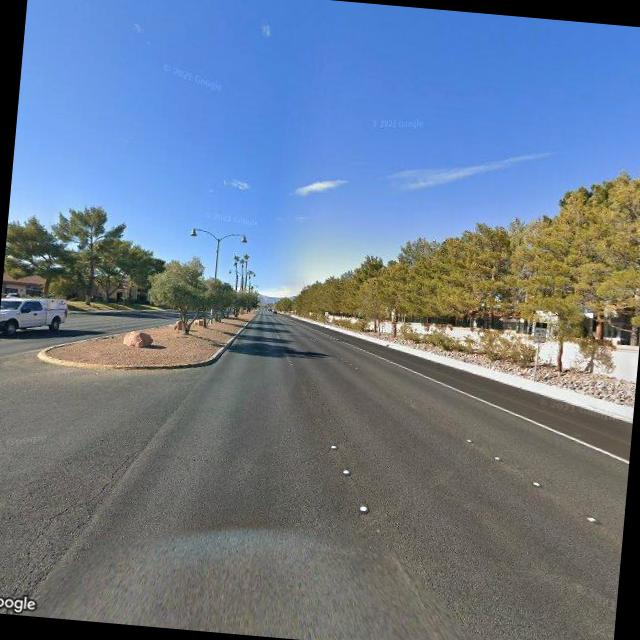crack: (7, 440, 137, 600)
